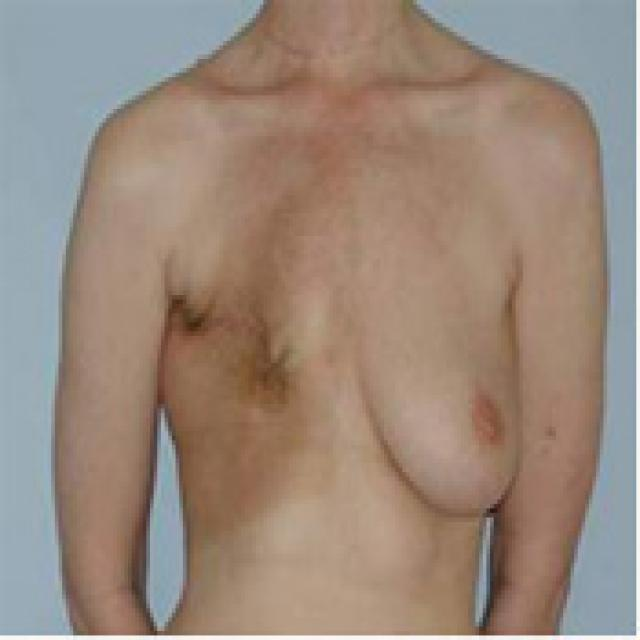Seno herido: (150, 250, 345, 442)
Seno ileso: (349, 250, 528, 542)
